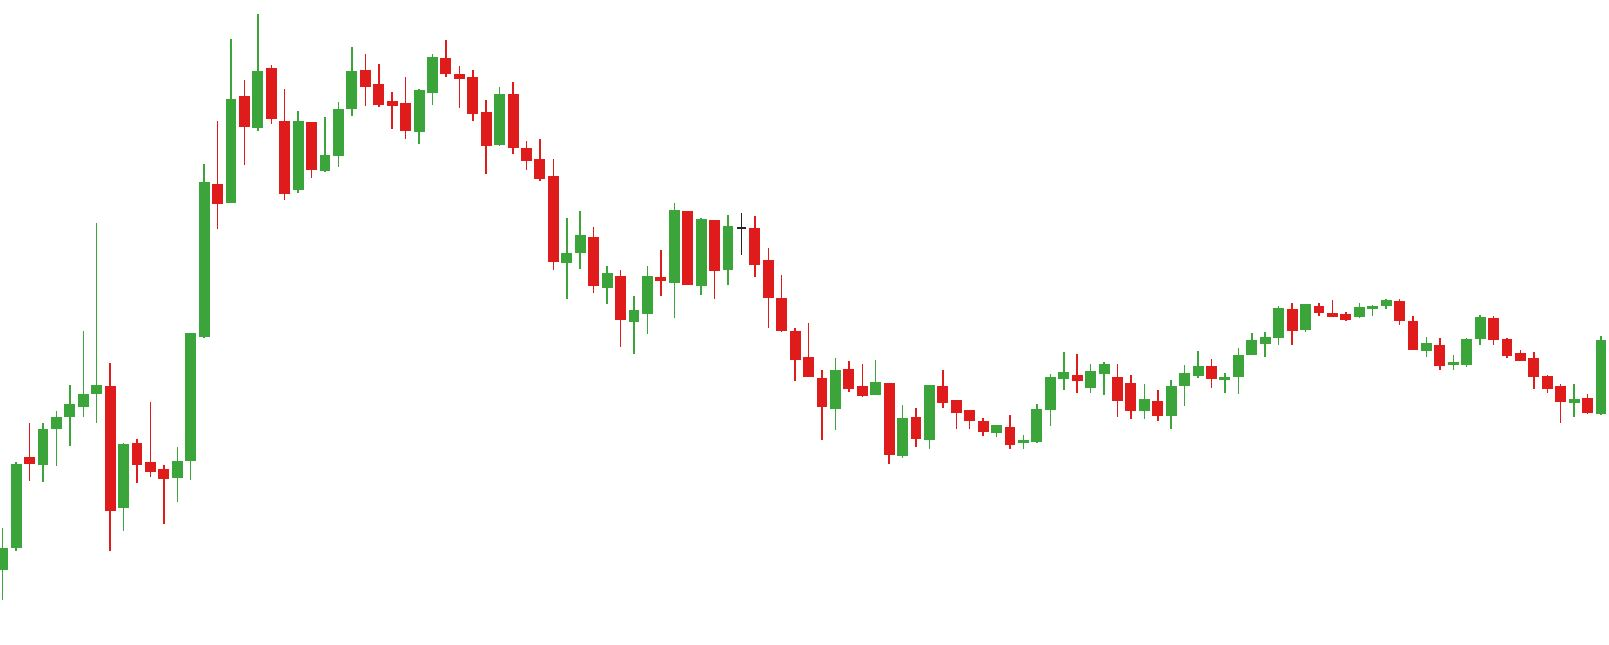buy: (36, 388, 133, 551)
sell: (345, 38, 452, 116)
